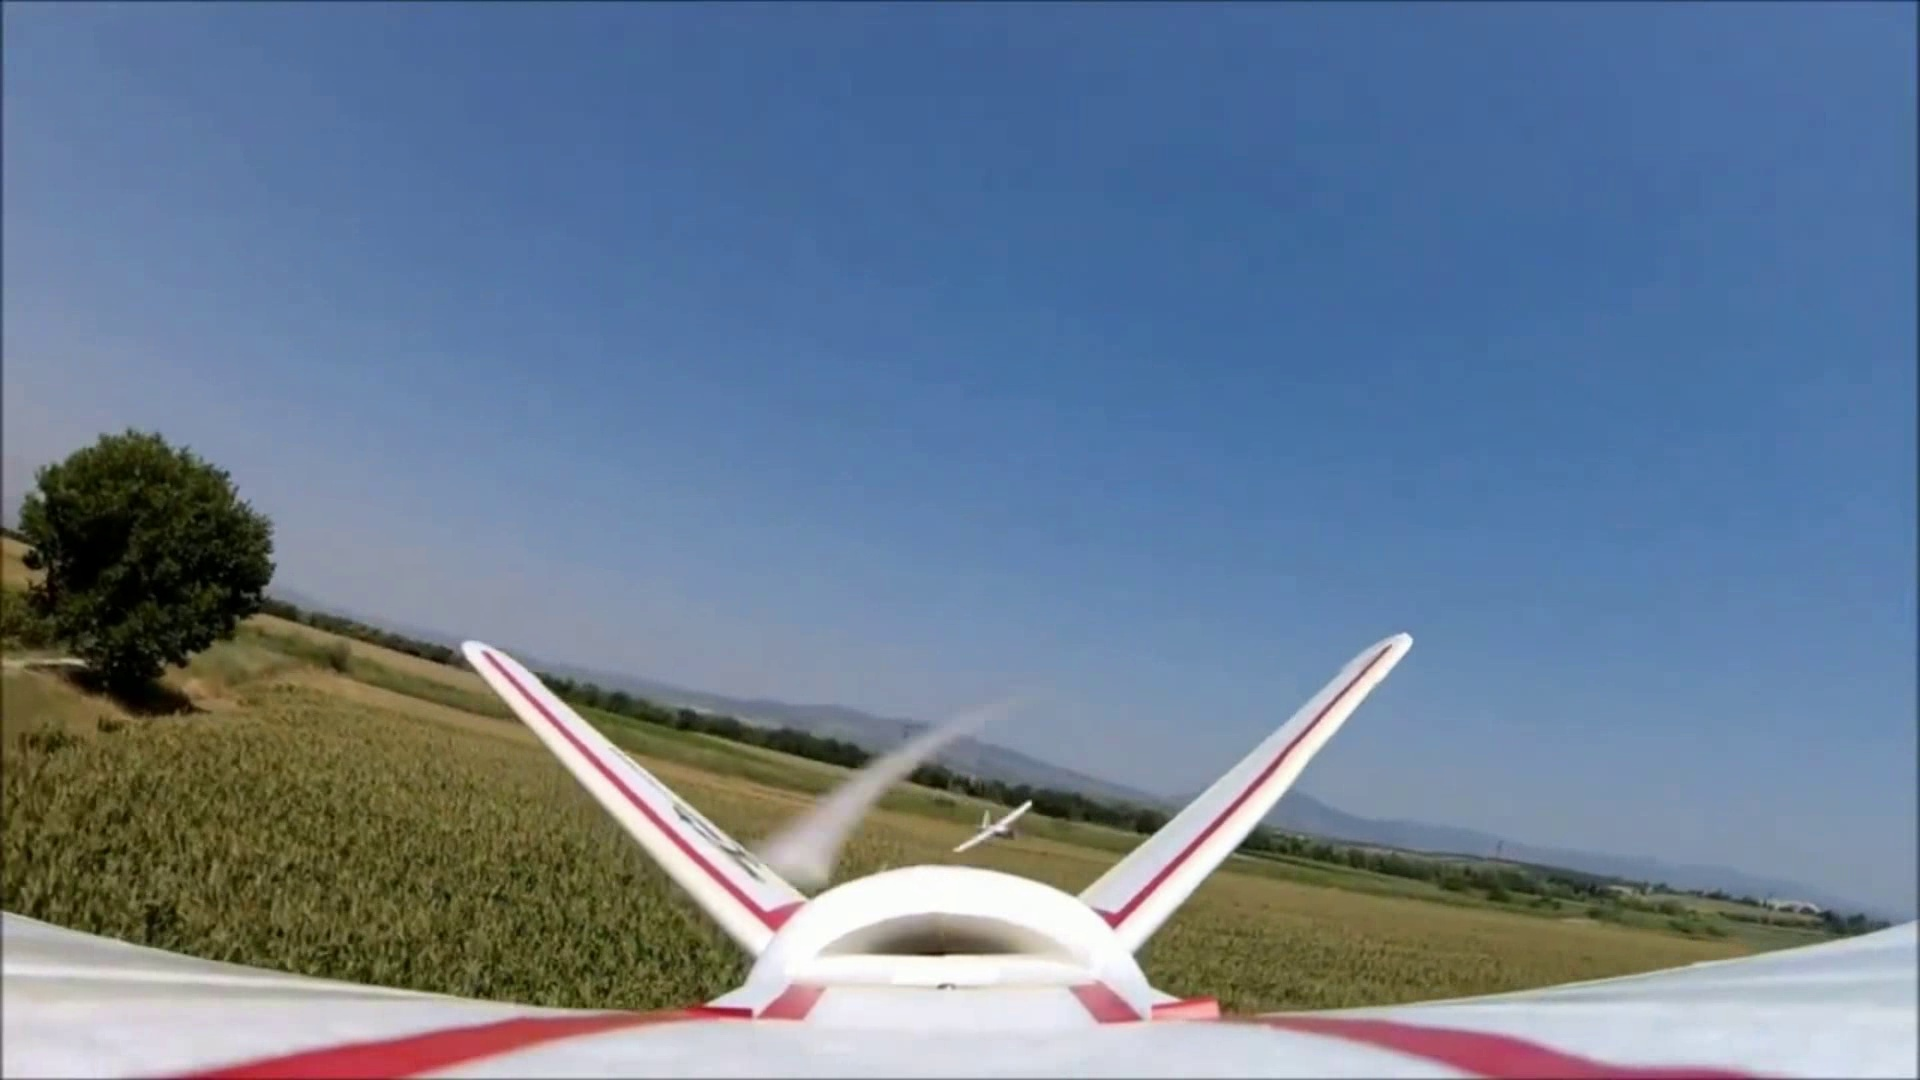airplane: (4, 629, 1404, 1059)
